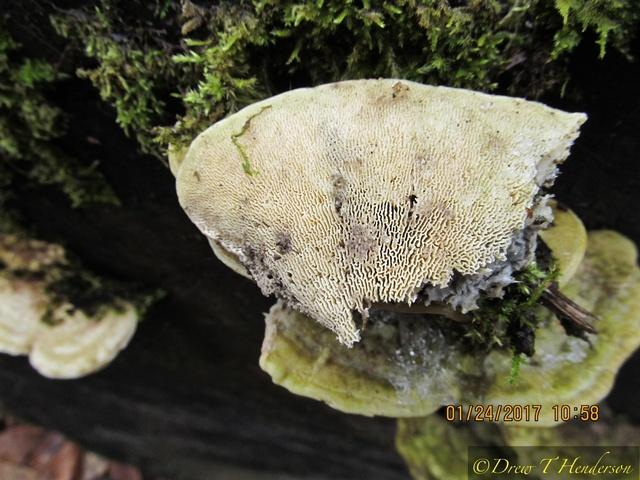Non-edible Mushroom: (172, 75, 640, 466), (0, 254, 145, 387)
